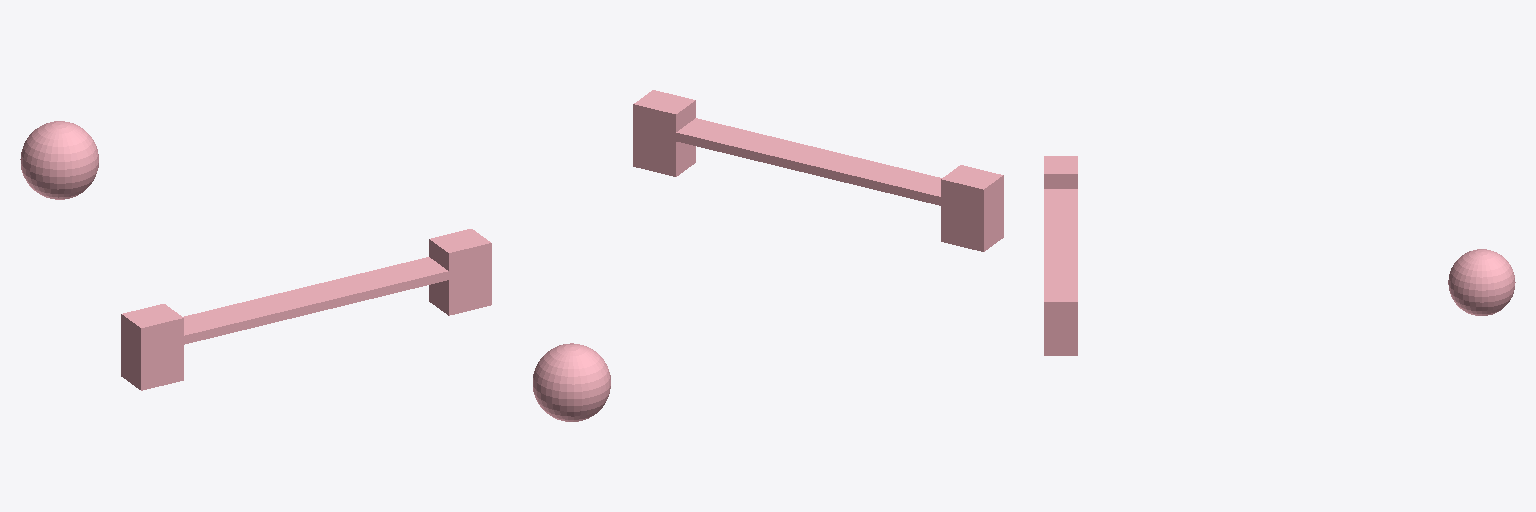
URDF robot description (gate):
<?xml version="1.0" ?>
<robot name = "gate">


    <link name = "base_left">
        <visual>
            <origin xyz = "-0.9 0 0.175" rpy = "0 0 0"/>
 
            <geometry>
                <box size = "0.25 0.2 0.35"/>
            </geometry>
            <material name = "red">
                <color rgba = "1.0 0.7529411764705882 0.796078431372549 0"/>
            </material>    
        </visual>
        <collision>
            <origin xyz = "-0.9 0 0.175" rpy = "0 0 0"/>
            <geometry>
                <box size = "0.25 0.2 0.35"/>
            </geometry>
            <!-- <origin xyz = "-0.9 0 0.15" rpy = "0 0 0"/> -->
        </collision>
        <inertial>
            <mass value="20"/>
            <inertia ixx="0.01" ixy="0.0" ixz="0.0" iyy="0.01" iyz="0.0" izz="0.01"/>
          </inertial>
      
    </link> 


    <link name = "base_up">
        <visual>
            <origin xyz = "0 0 0.225" rpy = "0 0 0"/>
            <geometry>
                <box size = "1.8 0.2 0.05"/>
            </geometry>
            <!-- <origin xyz = "0 0 0.275" rpy = "0 0 0"/> -->
            <material name = "red">
                <color rgba = "1.0 0.7529411764705882 0.796078431372549 0"/>
            </material>    

        </visual>
        <collision>
            <origin xyz = "0 0 0.225" rpy = "0 0 0"/>
            <geometry>
                <box size = "1.8 0.2 0.05"/>
            </geometry>
            <!-- <origin xyz = "0 0 0.275" rpy = "0 0 0"/> -->
        </collision>
        <inertial>
            <mass value="20"/>
            <inertia ixx="0.01" ixy="0.0" ixz="0.0" iyy="0.01" iyz="0.0" izz="0.01"/>
          </inertial>
      
    </link> 


    <joint name = "base_ji_left" type = 'fixed'>
        <parent link = "base_left"/>
        <child link = "base_up"/>
        <origin xyz = "0 0 0" rpy = "0 0 0"/>
    </joint>

    <link name = "base_right">
        <visual>
            <origin xyz = "0.9 0 0.175" rpy = "0 0 0"/>
            <geometry>
                <box size = "0.25 0.2 0.35"/>
            </geometry>
            <material name = "red">
                <color rgba = "1.0 0.7529411764705882 0.796078431372549 0"/>
            </material>    
            <!-- <origin xyz = "0.9 0 0.15" rpy = "0 0 0"/> -->
        </visual>
        <collision>
            <origin xyz = "0.9 0 0.175" rpy = "0 0 0"/>
            <geometry>
                <box size = "0.25 0.2 0.35"/>
            </geometry>
            
        </collision>
        <inertial>
            <mass value="20"/>
            <inertia ixx="0.01" ixy="0.0" ixz="0.0" iyy="0.01" iyz="0.0" izz="0.01"/>
          </inertial>
      
    </link> 

    <joint name = "base_ji_right" type = 'fixed'>
        <parent link = "base_up"/>
        <child link = "base_right"/>
        <origin xyz = "0 0 0" rpy = "0 0 0"/>
    </joint>

  <link name="ball">
    <visual>
      <origin xyz="0 2.5 0"/>
      <geometry>
        <sphere radius="0.2"/>
      </geometry>
            <material name = "red">
                <color rgba = "1.0 0.7529411764705882 0.796078431372549 0"/>
            </material>    
    </visual>
    <collision>
      <origin xyz="0 2.5 0"/>
      <geometry>
        <sphere radius="0.2"/>
      </geometry>
    </collision>
    <inertial>
      <mass value="0.5"/>
      <inertia ixx="0.01" ixy="0.0" ixz="0.0" iyy="0.01" iyz="0.0" izz="0.01"/>
    </inertial>
  </link>


    <joint name = "base_ji_back" type = 'fixed'>
        <parent link = "base_up"/>
        <child link = "ball"/>
        <origin xyz = "0 0 0" rpy = "0 0 0"/>
    </joint>

    


</robot>

--- Facts derived from the render (not from the file) ---
3 views of the same robot in one strip: view 1: azimuth 30°, elevation 25°; view 2: azimuth 150°, elevation 25°; view 3: azimuth 270°, elevation 25° (orthographic).
Robot: gate — 4 links, 3 joints (3 fixed); root link base_left; default pose: every joint at zero.
Links seen in each view (by area): view 1: base_up, ball, base_left, base_right; view 2: base_up, ball, base_left, base_right; view 3: ball, base_up, base_right, base_left.
Boxes of the visible links, box(x1,y1,x2,y2) form: base_up: box(163, 257, 469, 349); ball: box(20, 121, 98, 199); base_left: box(121, 304, 183, 390); base_right: box(429, 229, 491, 315); base_up: box(655, 118, 954, 205); ball: box(533, 343, 610, 421); base_left: box(941, 165, 1003, 251); base_right: box(633, 90, 695, 176); ball: box(1448, 249, 1515, 315); base_up: box(1044, 189, 1077, 283); base_right: box(1044, 284, 1077, 355); base_left: box(1044, 156, 1077, 188).
Size in the robot's own frame: 2.05 by 2.8 by 0.55 metres.
Geometry: primitives only (box / cylinder / sphere), no mesh files.